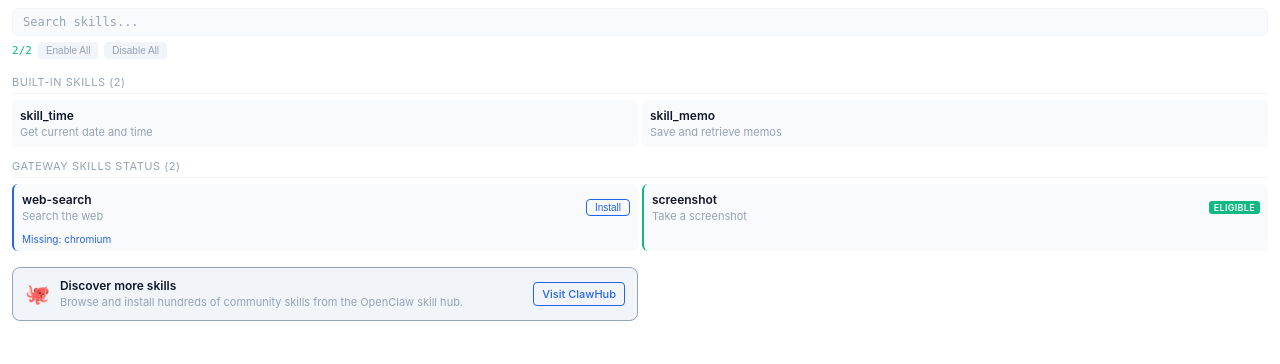
Test: SkillsTab gateway install › shows error feedback on install exception
This screenshot has width=1280, height=364.
Step 1. Click the button with test id "skills-install-btn" → (608,208), box [586,199,630,216]
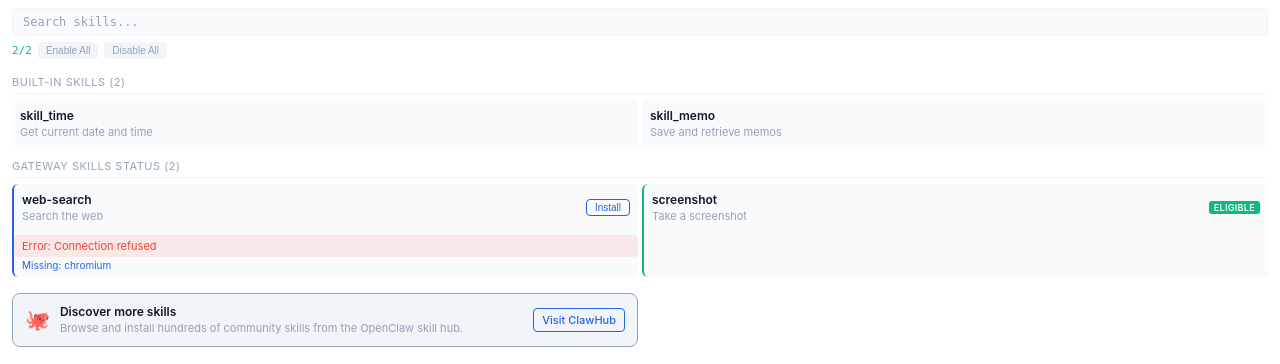
Now the text "Error: Connection refused" is shown, box [14,235,638,257]
Now the text with class "error" shows "Connection refused", box [22,239,157,253]
